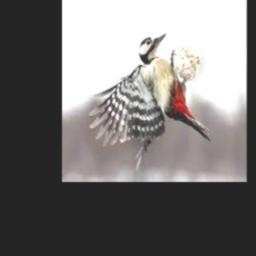Woodpecker: (89, 33, 211, 169)
